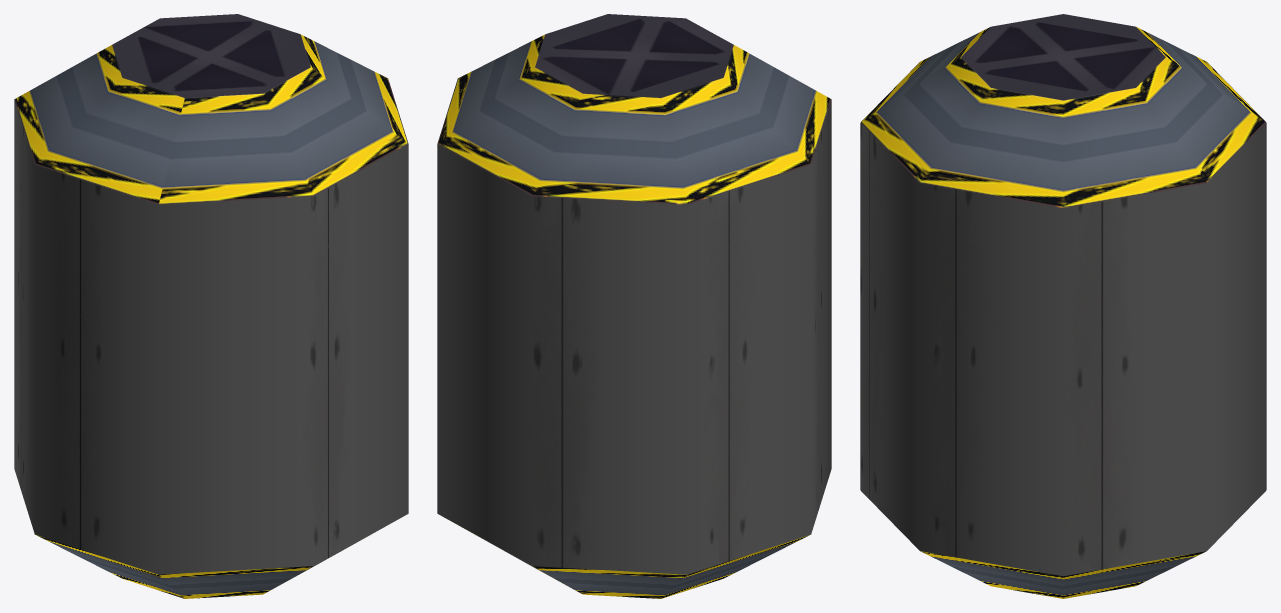
The model's file is Grenade.fbx.
The picture shows the model from 3 angles, left to right: view 1: azimuth 30°, elevation 25°; view 2: azimuth 150°, elevation 25°; view 3: azimuth 270°, elevation 25°; orthographic projection.
Visible parts, largest first — view 1: Cylinder; view 2: Cylinder; view 3: Cylinder.
Boxes of the visible parts, x1,y1,x2,y2 form: Cylinder: (14,14,408,598); Cylinder: (437,14,831,598); Cylinder: (860,14,1266,598).
Bounding box in the file's own units: 44.4 × 60.14 × 44.4.
